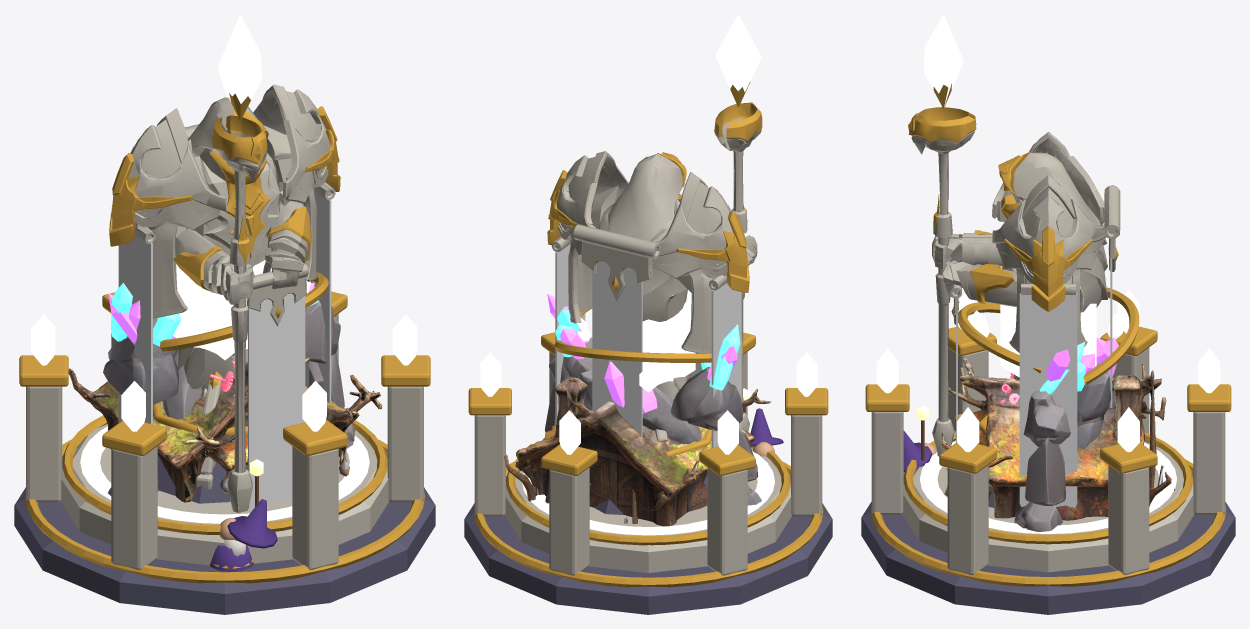
Rendered from structures.glb.
3 renders of one model, left to right at view 1: azimuth 30°, elevation 25°; view 2: azimuth 150°, elevation 25°; view 3: azimuth 270°, elevation 25°, orthographic. The views are drawn at different scales.
Parts seen in each view (by area): view 1: tower_body, nexus_base, shop_hut, piece4, piece3, piece5, piece2, guardian_body, shopkeeper, core, crystal, guardian_crystals (+2 smaller); view 2: tower_body, nexus_base, shop_hut, guardian_body, piece1, piece2, piece3, piece0, guardian_crystals, core, crystal, piece6 (+1 smaller); view 3: tower_body, nexus_base, shop_hut, guardian_body, piece0, piece5, piece1, piece4, piece3, crystal, piece2, guardian_crystals (+4 smaller).
Boxes of the visible parts, left/top/right/bottom form: tower_body: left=109, top=84, right=340, bottom=512; nexus_base: left=14, top=403, right=435, bottom=614; shop_hut: left=68, top=350, right=382, bottom=502; piece4: left=283, top=381, right=347, bottom=569; piece3: left=102, top=381, right=166, bottom=569; piece5: left=381, top=314, right=430, bottom=502; piece2: left=19, top=314, right=68, bottom=502; guardian_body: left=103, top=300, right=354, bottom=495; shopkeeper: left=210, top=459, right=277, bottom=571; core: left=173, top=229, right=271, bottom=353; crystal: left=218, top=14, right=262, bottom=103; guardian_crystals: left=108, top=282, right=318, bottom=346; tower_body: left=547, top=81, right=762, bottom=459; nexus_base: left=464, top=429, right=832, bottom=614; shop_hut: left=504, top=375, right=771, bottom=526; guardian_body: left=544, top=338, right=761, bottom=505; piece1: left=541, top=410, right=597, bottom=575; piece2: left=699, top=410, right=755, bottom=575; piece3: left=785, top=352, right=828, bottom=516; piece0: left=468, top=352, right=511, bottom=516; guardian_crystals: left=547, top=293, right=740, bottom=413; core: left=642, top=286, right=695, bottom=384; crystal: left=715, top=14, right=761, bottom=92; piece6: left=554, top=340, right=711, bottom=362; tower_body: left=908, top=83, right=1120, bottom=507; nexus_base: left=861, top=413, right=1235, bottom=614; shop_hut: left=941, top=358, right=1174, bottom=520; guardian_body: left=1014, top=363, right=1110, bottom=531; piece0: left=1100, top=407, right=1157, bottom=574; piece5: left=939, top=407, right=996, bottom=574; piece1: left=1187, top=348, right=1231, bottom=514; piece4: left=865, top=348, right=909, bottom=514; piece3: left=948, top=293, right=996, bottom=431; crystal: left=923, top=14, right=963, bottom=107; piece2: left=1100, top=289, right=1157, bottom=433; guardian_crystals: left=1039, top=337, right=1118, bottom=394.
Size of the model in its own units: 6.4 by 9.55 by 6.4.
Materials: 17 (3 with a texture image).
